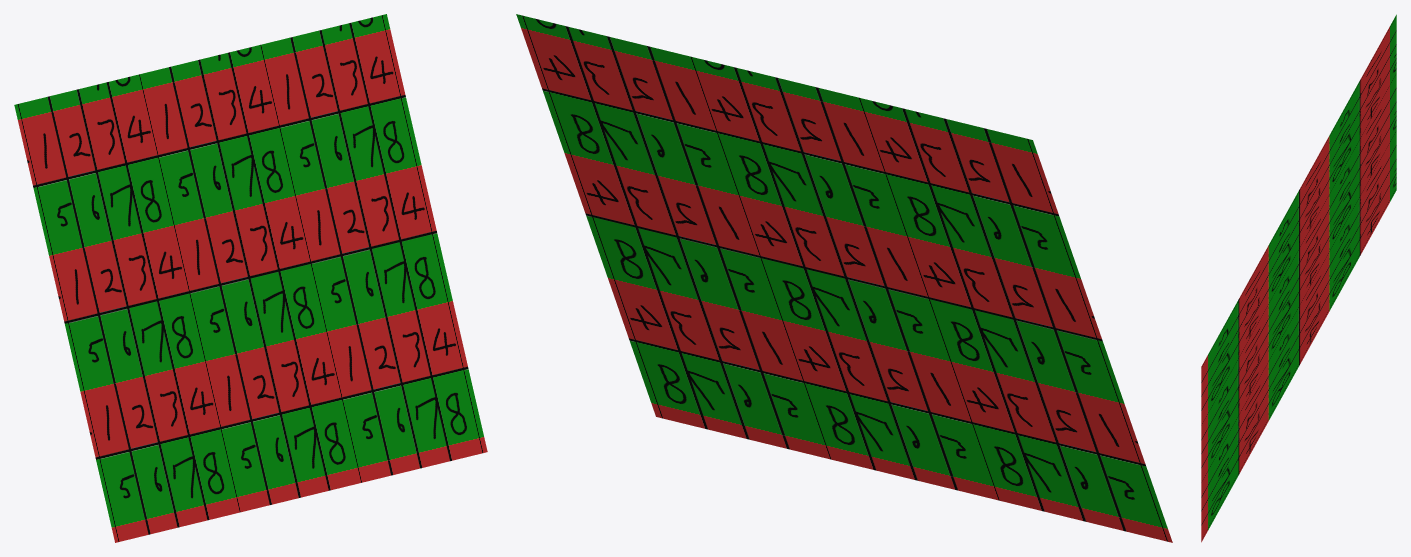
The model's file is Ball.fbx.
3 views of the same model, side by side, from view 1: azimuth 30°, elevation 25°; view 2: azimuth 150°, elevation 25°; view 3: azimuth 270°, elevation 25° (orthographic). The views are drawn at different scales.
Visible parts, largest first — view 1: pPlane1; view 2: pPlane1; view 3: pPlane1.
Boxes of the visible parts, box(x1,y1,x2,y2) form: pPlane1: box(14, 14, 487, 542); pPlane1: box(516, 14, 1172, 542); pPlane1: box(1201, 14, 1396, 542).
Bounding box in the file's own units: 8.75 × 8.17 × 4.1.
1 material, 1 textured.
